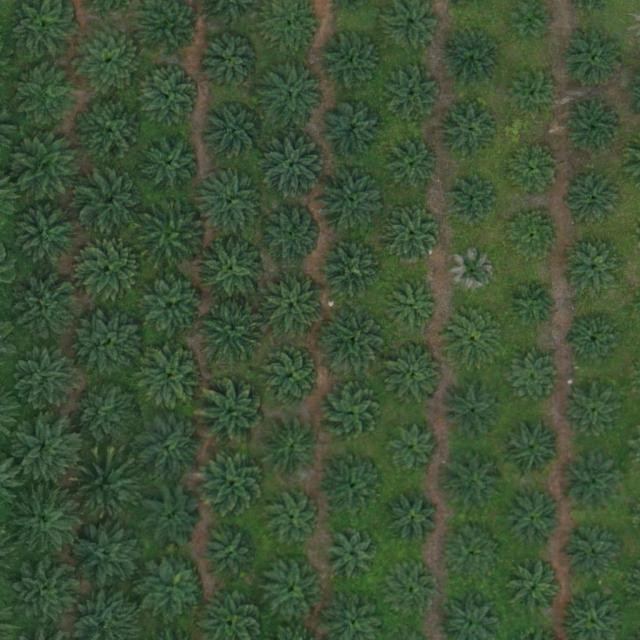Dead: (451, 250, 498, 297)
Healthy: (75, 27, 146, 98), (196, 235, 267, 306), (201, 297, 272, 368), (197, 379, 268, 450), (13, 200, 83, 271), (12, 344, 83, 414), (78, 97, 148, 168), (139, 200, 209, 271), (195, 168, 265, 239), (260, 131, 330, 202), (318, 166, 388, 237), (318, 307, 388, 378), (72, 381, 142, 452), (8, 485, 78, 556), (14, 133, 84, 203), (78, 169, 148, 239), (77, 309, 147, 379), (199, 448, 269, 518), (71, 453, 141, 523), (73, 519, 143, 589), (14, 415, 84, 485), (12, 559, 82, 629), (20, 65, 83, 128), (79, 238, 142, 301), (204, 100, 267, 163), (262, 61, 325, 124), (445, 307, 508, 370), (500, 348, 563, 411), (500, 416, 563, 479), (142, 488, 205, 551), (18, 278, 80, 341), (142, 134, 204, 197), (143, 274, 205, 337), (203, 34, 265, 97), (321, 31, 383, 94), (323, 99, 385, 162), (322, 239, 384, 302), (564, 29, 627, 91), (560, 453, 622, 516), (442, 379, 504, 442), (384, 344, 447, 406), (321, 382, 383, 445), (261, 345, 323, 408), (261, 416, 323, 479), (262, 559, 324, 622), (139, 346, 201, 409), (137, 416, 199, 479), (143, 557, 205, 620), (140, 65, 202, 127), (262, 204, 324, 266), (263, 277, 325, 339), (444, 451, 506, 513), (324, 455, 386, 517), (569, 314, 624, 370), (387, 70, 442, 125), (446, 34, 501, 89), (444, 105, 499, 160), (508, 146, 563, 201), (506, 210, 561, 265), (567, 102, 622, 157), (567, 243, 622, 298), (566, 386, 621, 441), (566, 526, 621, 581), (445, 531, 500, 586), (386, 424, 441, 479), (204, 527, 259, 582), (385, 141, 439, 196), (387, 210, 441, 265), (567, 174, 621, 229), (506, 494, 560, 549), (508, 563, 562, 618), (328, 526, 382, 581), (267, 491, 321, 546), (392, 497, 439, 545), (391, 283, 438, 330), (449, 179, 496, 226), (391, 567, 438, 614)
Small: (506, 277, 561, 332), (509, 74, 556, 121)
